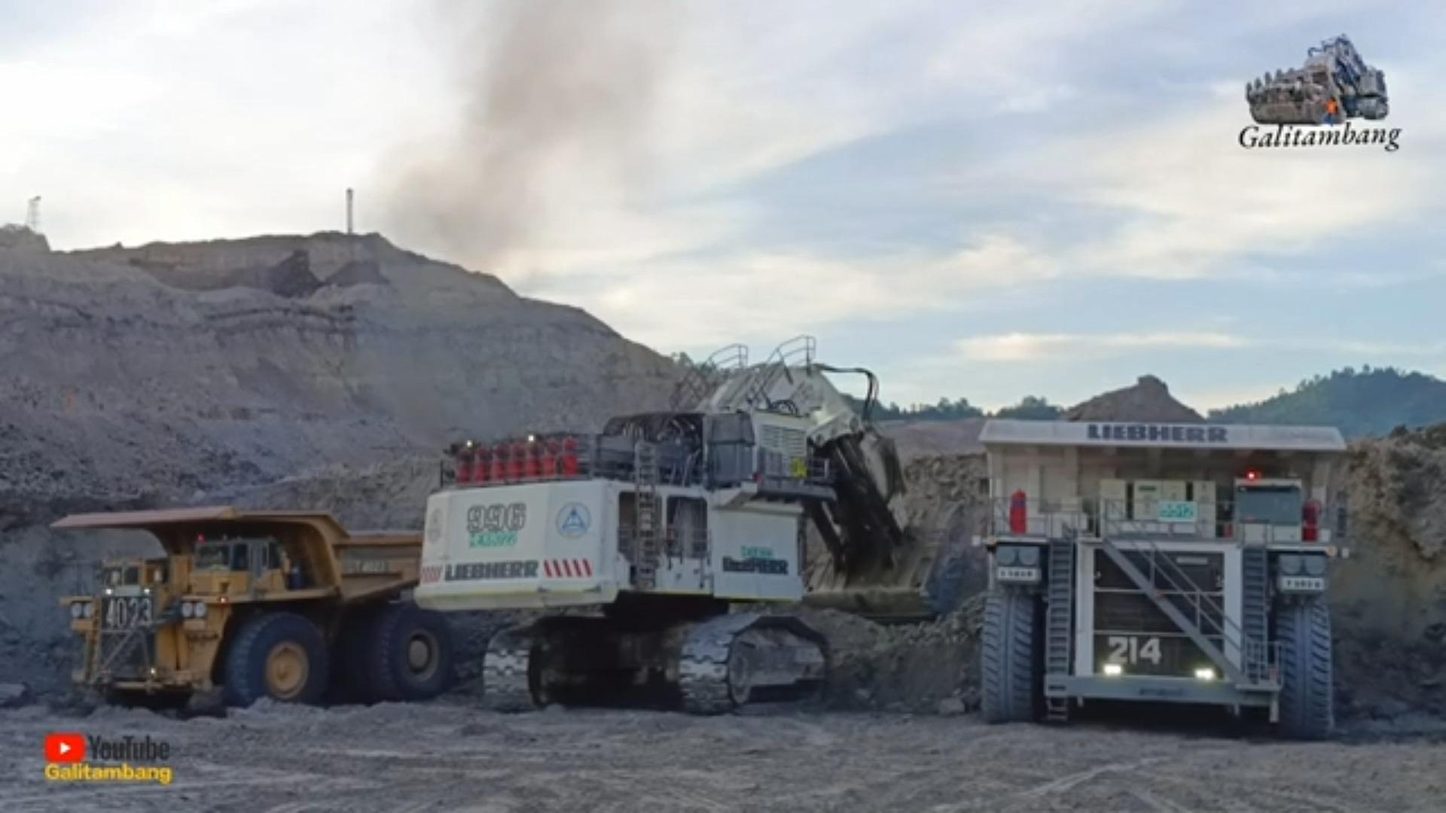Excavator: (413, 336, 957, 715)
HD-Truck: (974, 419, 1350, 739), (51, 506, 453, 707)
